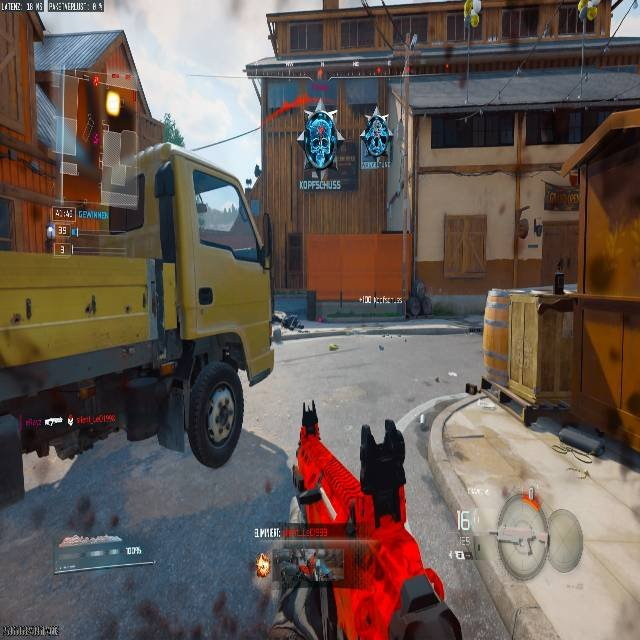player: (299, 102, 343, 185)
